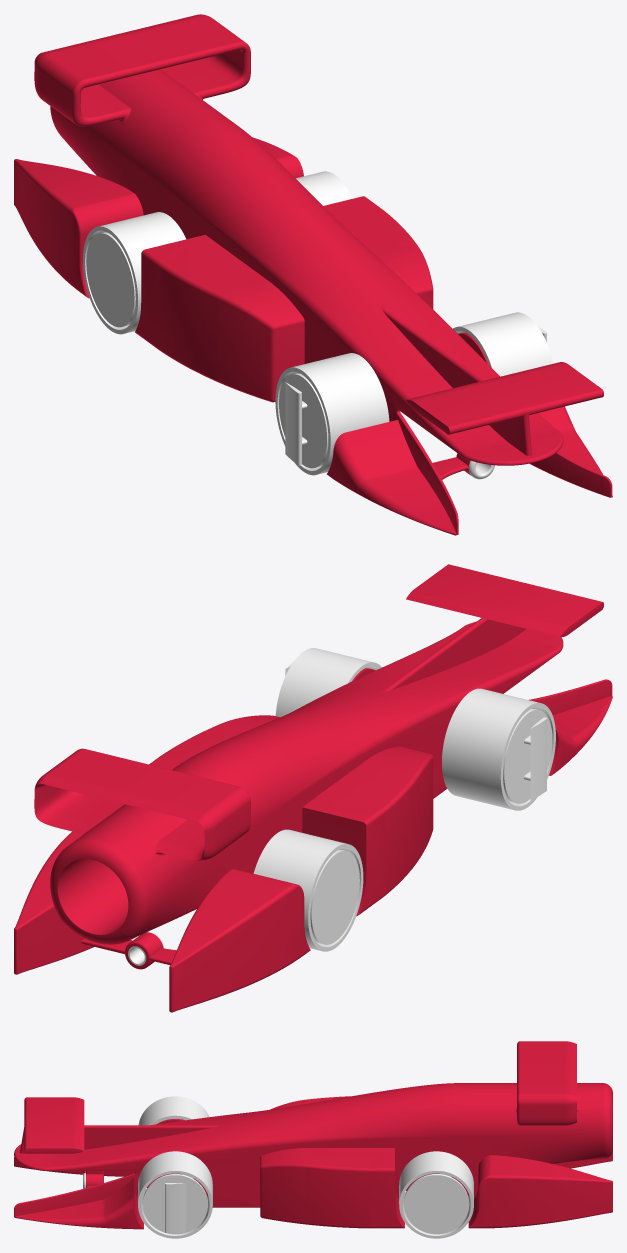
3 views of the same model, one above another, from view 1: azimuth 30°, elevation 25°; view 2: azimuth 150°, elevation 25°; view 3: azimuth 270°, elevation 25° (orthographic). The views are drawn at different scales.
Parts seen in each view (by area): view 1: 10 P2.2 Assembly, 10 P2.2 Assembly.001, 10 P2.2 Assembly.004, 10 P2.2 Assembly.002, 10 P2.2 Assembly.003; view 2: 10 P2.2 Assembly, 10 P2.2 Assembly.001, 10 P2.2 Assembly.004, 10 P2.2 Assembly.002; view 3: 10 P2.2 Assembly, 10 P2.2 Assembly.002, 10 P2.2 Assembly.003, 10 P2.2 Assembly.001.
Part boxes in pixels (bbox=[...]): 10 P2.2 Assembly: bbox=[14, 14, 612, 535]; 10 P2.2 Assembly.001: bbox=[275, 353, 389, 475]; 10 P2.2 Assembly.004: bbox=[83, 212, 185, 334]; 10 P2.2 Assembly.002: bbox=[453, 312, 553, 376]; 10 P2.2 Assembly.003: bbox=[296, 171, 352, 205]; 10 P2.2 Assembly: bbox=[14, 564, 612, 1012]; 10 P2.2 Assembly.001: bbox=[442, 688, 555, 810]; 10 P2.2 Assembly.004: bbox=[253, 829, 363, 951]; 10 P2.2 Assembly.002: bbox=[275, 648, 381, 717]; 10 P2.2 Assembly: bbox=[14, 1041, 612, 1229]; 10 P2.2 Assembly.002: bbox=[138, 1151, 212, 1238]; 10 P2.2 Assembly.003: bbox=[399, 1151, 473, 1238]; 10 P2.2 Assembly.001: bbox=[138, 1096, 209, 1125].
Bounding box in the file's own units: 12.47 × 9.45 × 38.32.
